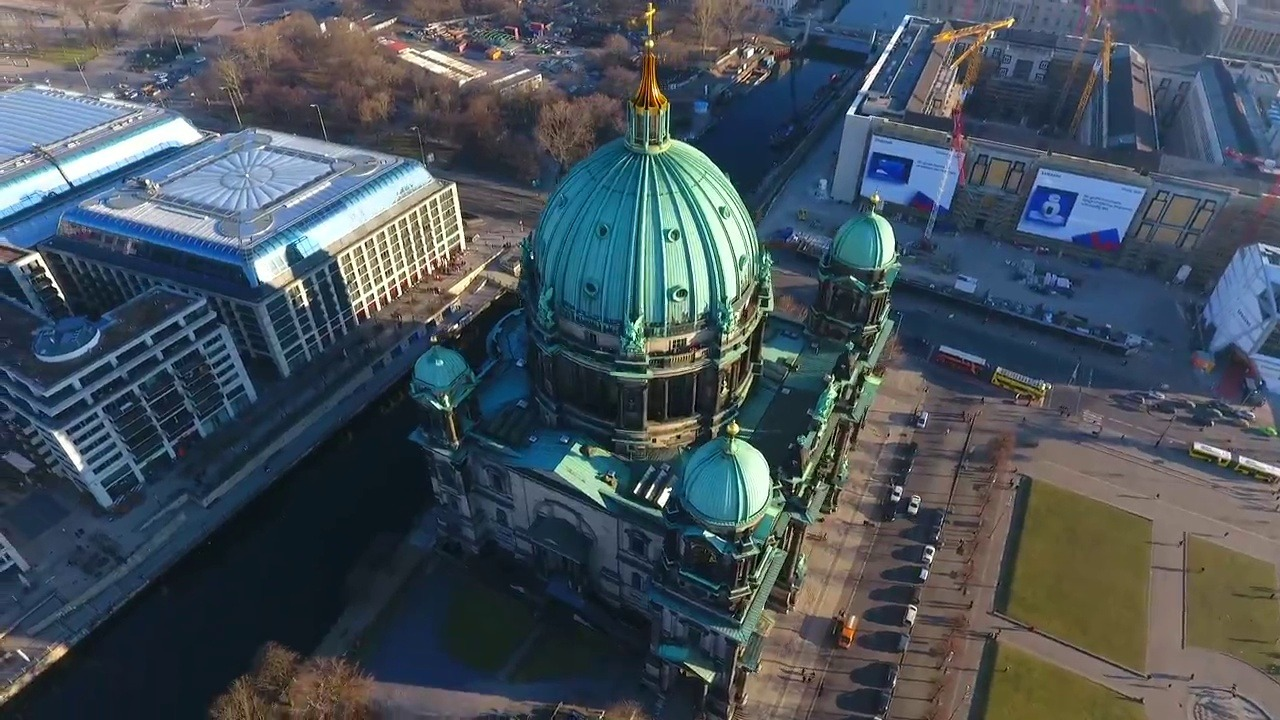bus: (930, 337, 991, 379), (988, 360, 1051, 399), (1182, 434, 1237, 470)
